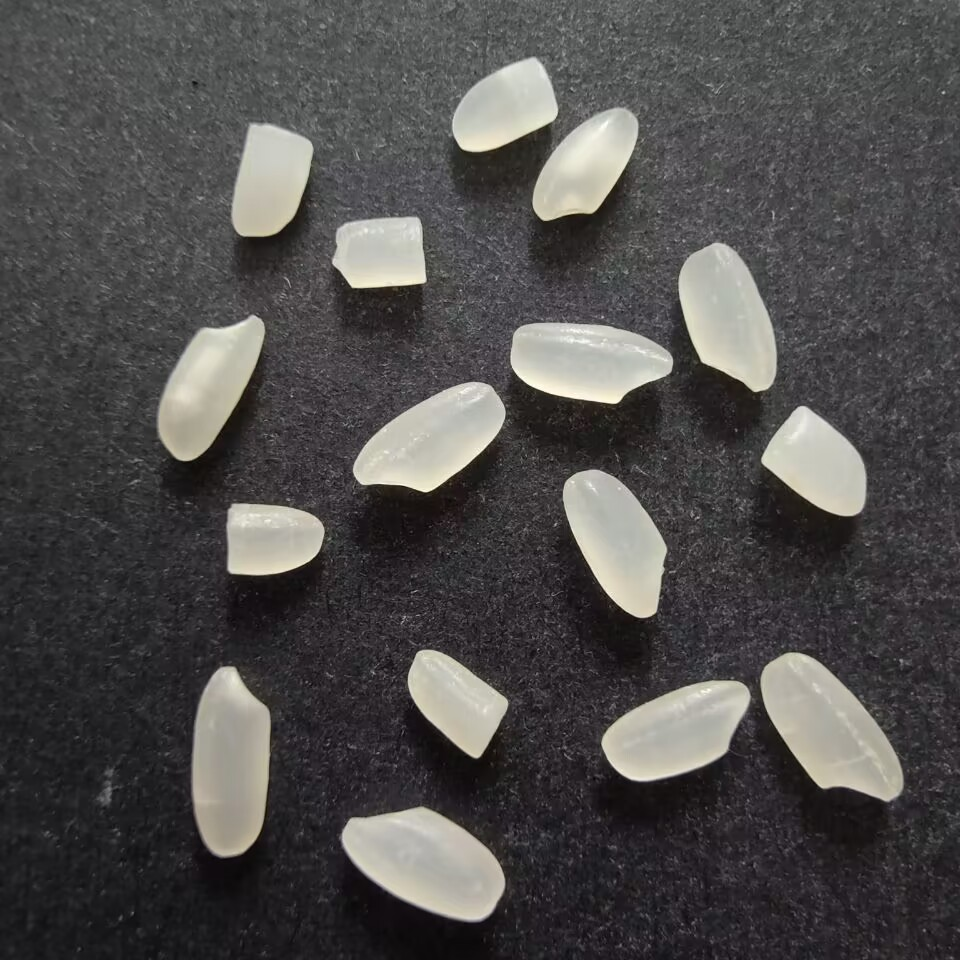broken: (757, 402, 871, 519), (405, 643, 515, 762), (448, 53, 560, 158), (226, 119, 320, 240), (221, 495, 328, 583), (329, 211, 433, 296)
rice: (758, 651, 908, 810), (335, 804, 507, 928), (348, 378, 507, 496), (153, 309, 267, 467), (559, 467, 670, 627), (190, 660, 276, 861), (595, 678, 752, 784), (678, 239, 779, 399), (506, 319, 679, 405), (529, 103, 639, 227)
